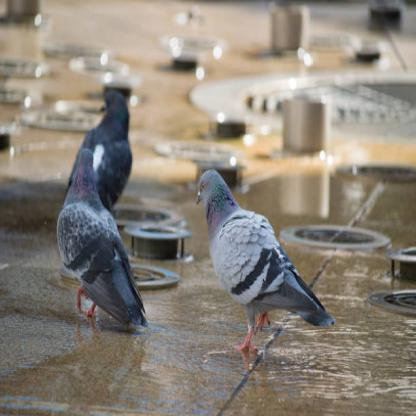Flying Rat: (187, 169, 341, 369), (63, 154, 140, 334), (68, 79, 143, 193)
